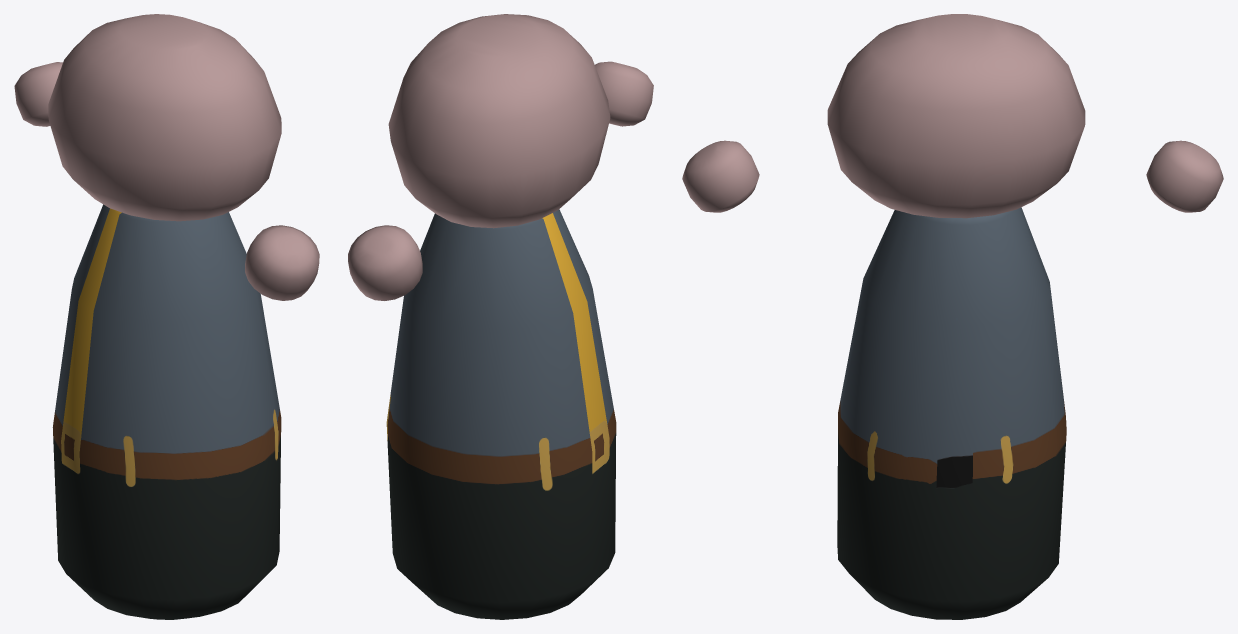
Rendered from Bandmember3.fbx.
The picture shows the model from 3 angles, left to right: view 1: azimuth 30°, elevation 25°; view 2: azimuth 150°, elevation 25°; view 3: azimuth 270°, elevation 25°; orthographic projection.
Parts seen in each view (by area): view 1: Body, Head, Right_Hand, Left_Hand; view 2: Body, Head, Left_Hand, Right_Hand; view 3: Body, Head, Left_Hand, Right_Hand.
Part boxes in pixels (x1=…): Body: x1=52, y1=204, x2=281, y2=619; Head: x1=48, y1=14, x2=281, y2=221; Right_Hand: x1=245, y1=225, x2=319, y2=300; Left_Hand: x1=14, y1=62, x2=62, y2=126; Body: x1=386, y1=209, x2=616, y2=619; Head: x1=388, y1=14, x2=610, y2=228; Left_Hand: x1=348, y1=225, x2=422, y2=300; Right_Hand: x1=595, y1=61, x2=653, y2=126; Body: x1=837, y1=207, x2=1066, y2=619; Head: x1=827, y1=14, x2=1085, y2=218; Left_Hand: x1=1146, y1=140, x2=1223, y2=212; Right_Hand: x1=682, y1=140, x2=759, y2=212.
Size of the model in its own units: 1.29 by 3.57 by 3.06.
